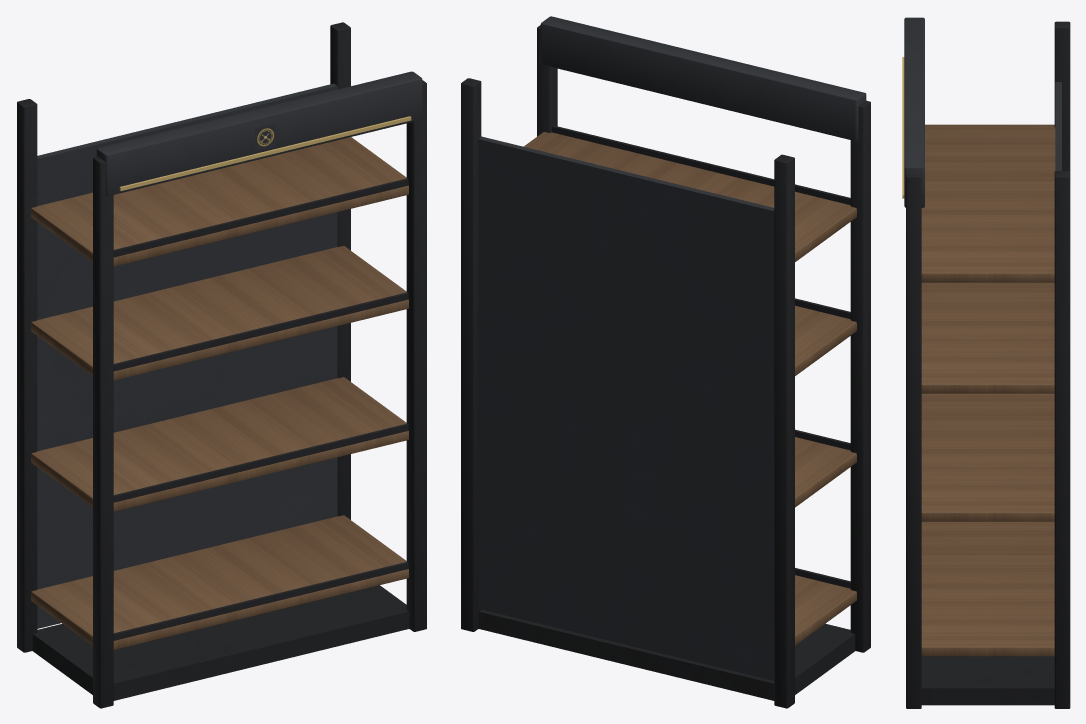
Rendered from snack_shelf.glb.
The picture shows the model from 3 angles, left to right: view 1: azimuth 30°, elevation 25°; view 2: azimuth 150°, elevation 25°; view 3: azimuth 270°, elevation 25°; orthographic projection. The views are drawn at different scales.
Parts seen in each view (by area): view 1: Back_Panel, Shelf_02, Shelf_01, Shelf_03, Shelf_04, Kick, Header_Fascia, Frame_Post_LF, Frame_Post_LB, Frame_Post_RF, Frame_Post_RB, Shelf_Rail_02 (+4 smaller); view 2: Back_Panel, Header_Fascia, Frame_Post_LB, Frame_Post_LF, Frame_Post_RB, Kick, Shelf_04, Shelf_02, Shelf_03, Shelf_01, Shelf_Rail_04, Frame_Post_RF; view 3: Shelf_04, Shelf_01, Shelf_02, Shelf_03, Frame_Post_RB, Frame_Post_RF, Kick, Header_Fascia, Frame_Post_LB, Back_Panel, Header_BrassLine.
Boxes of the visible parts, x1,y1,x2,y2 form: Back_Panel: (37,83,337,628); Shelf_02: (31,377,408,511); Shelf_01: (31,515,408,649); Shelf_03: (31,246,408,380); Shelf_04: (31,137,408,266); Kick: (32,585,408,700); Header_Fascia: (96,71,422,196); Frame_Post_LF: (93,156,113,708); Frame_Post_LB: (17,99,37,652); Frame_Post_RF: (406,80,426,631); Frame_Post_RB: (330,22,350,519); Shelf_Rail_02: (113,423,408,502); Back_Panel: (478,136,774,680); Header_Fascia: (540,16,866,141); Frame_Post_LB: (774,154,794,708); Frame_Post_LF: (850,100,870,652); Frame_Post_RB: (461,78,481,631); Kick: (479,609,855,700); Shelf_04: (524,132,856,261); Shelf_02: (795,437,856,507); Shelf_03: (795,305,856,375); Shelf_01: (795,575,856,645); Shelf_Rail_04: (551,125,850,204); Frame_Post_RF: (537,25,557,136); Shelf_04: (921,124,1055,282); Shelf_01: (921,521,1054,656); Shelf_02: (921,393,1054,521); Shelf_03: (921,282,1054,393); Frame_Post_RB: (1054,171,1070,708); Frame_Post_RF: (906,174,921,708); Kick: (921,656,1054,705); Header_Fascia: (904,17,924,207); Frame_Post_LB: (1054,21,1070,171); Back_Panel: (1055,81,1061,170); Header_BrassLine: (902,57,904,198).
Bounding box in the file's own units: 1 × 1.6 × 0.456.
Materials: 7 (5 with a texture image).
